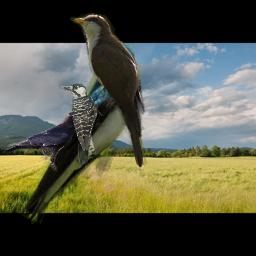Crow: (3, 111, 88, 172)
Cuckoo: (70, 13, 148, 171)
Swallow: (19, 41, 142, 227)
Woodpecker: (61, 83, 104, 169)
